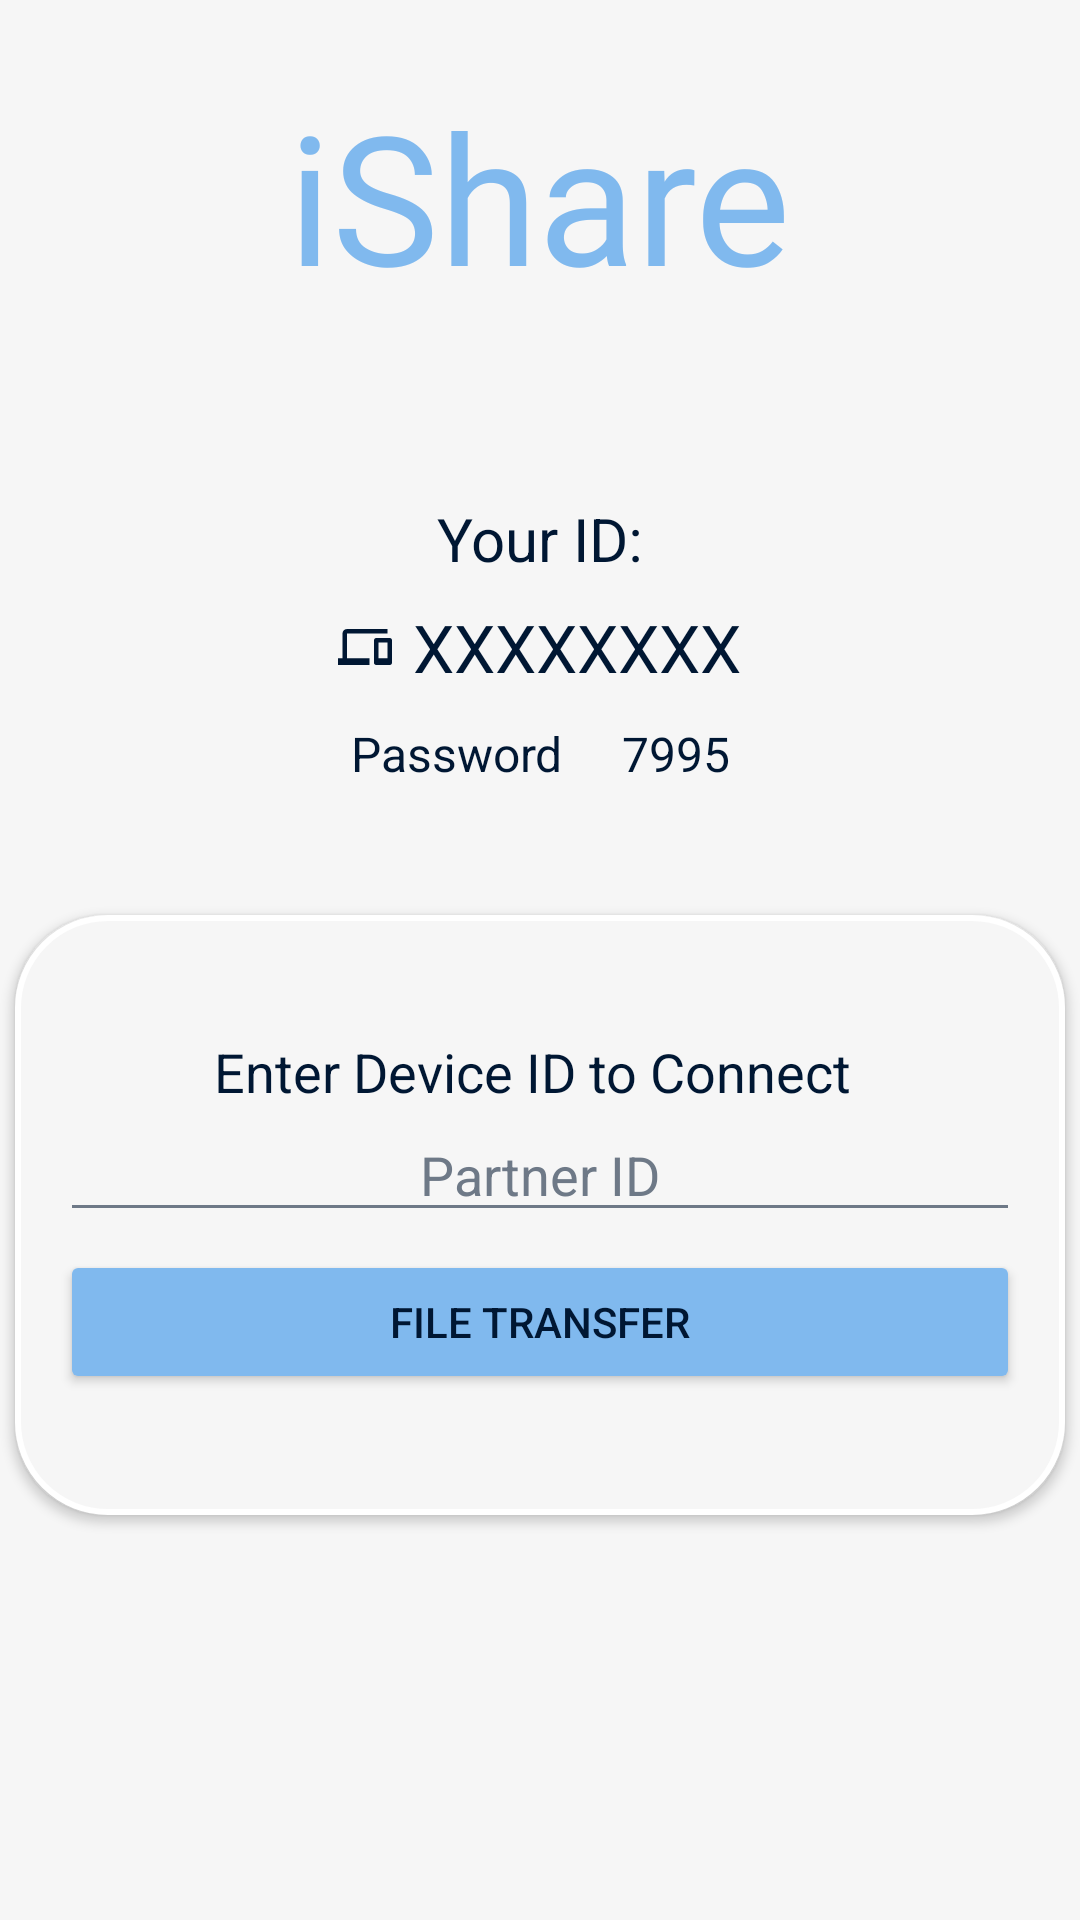

Where icons sit on this 1080w x 1920h app screen, as [x1=x1, y1=y1, x2=x2, y2=y2]:
devices: [x1=338, y1=629, x2=392, y2=665]
